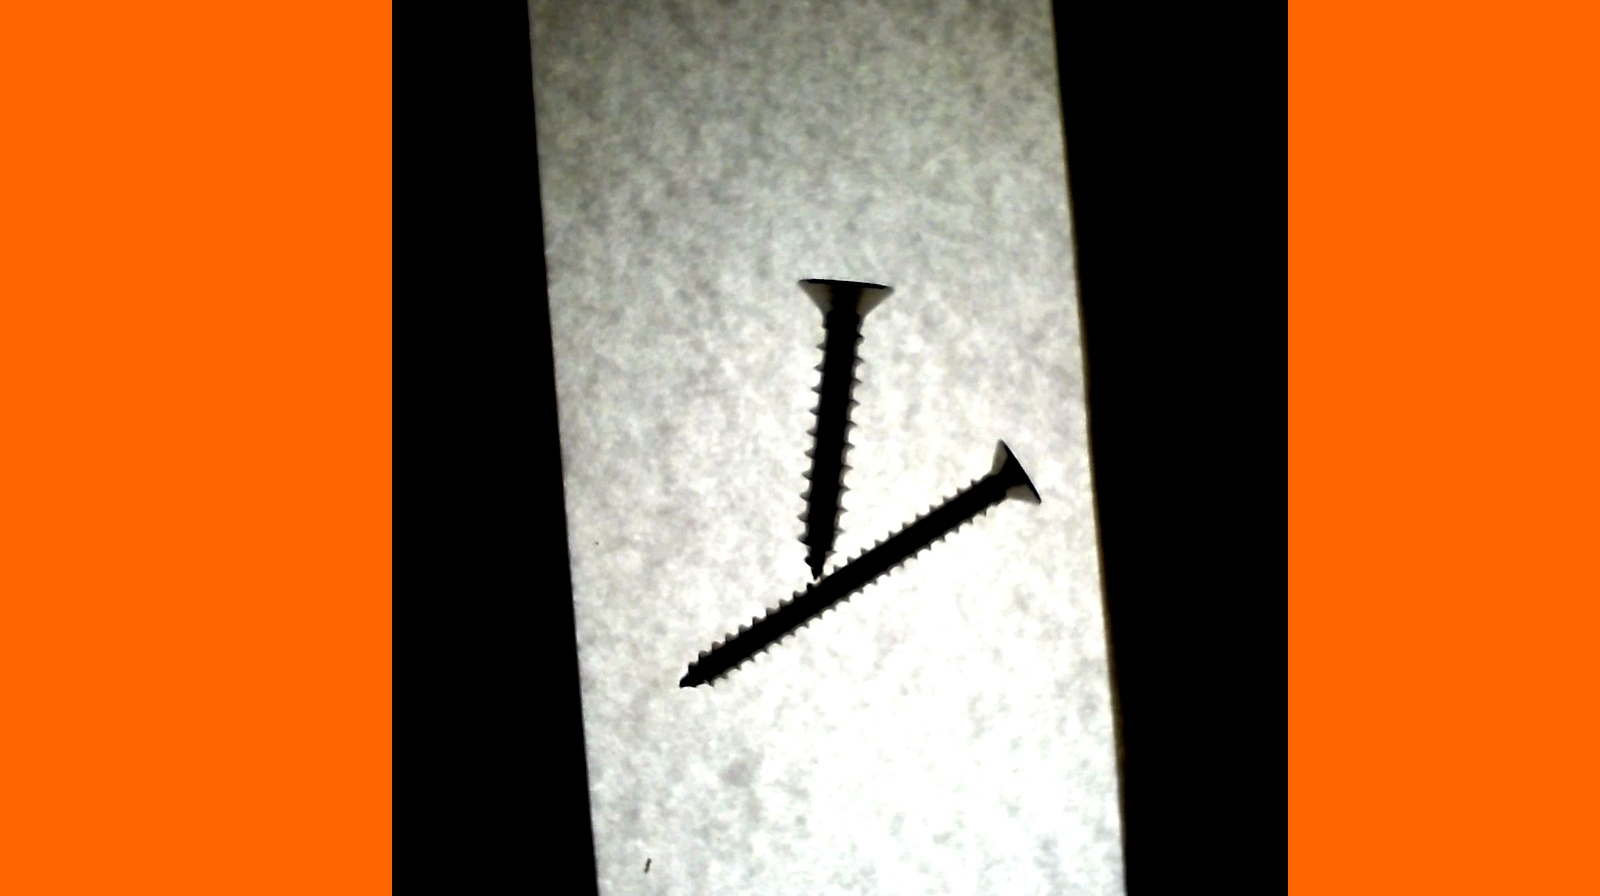S001: (785, 266, 895, 575)
S002: (671, 434, 1043, 697)
